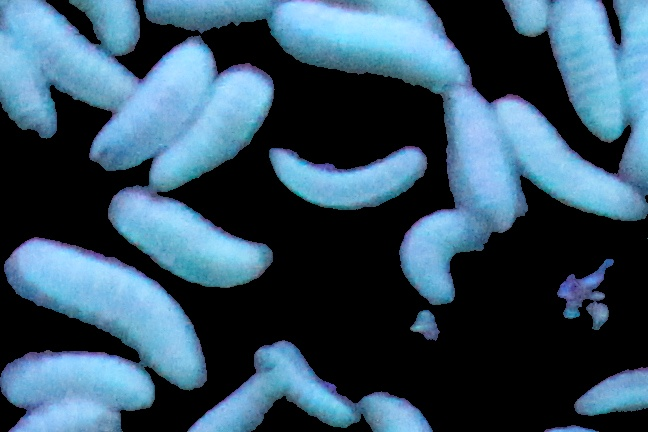larvae: (8, 235, 208, 392), (492, 90, 648, 223), (270, 1, 479, 99), (109, 185, 274, 288), (90, 38, 217, 168), (1, 1, 141, 117), (143, 67, 276, 185), (435, 88, 533, 229), (547, 1, 629, 147), (265, 149, 431, 212), (254, 338, 364, 431), (1, 346, 156, 411), (399, 208, 488, 306), (194, 365, 287, 432), (1, 26, 58, 135), (4, 396, 127, 432), (573, 363, 648, 417)
